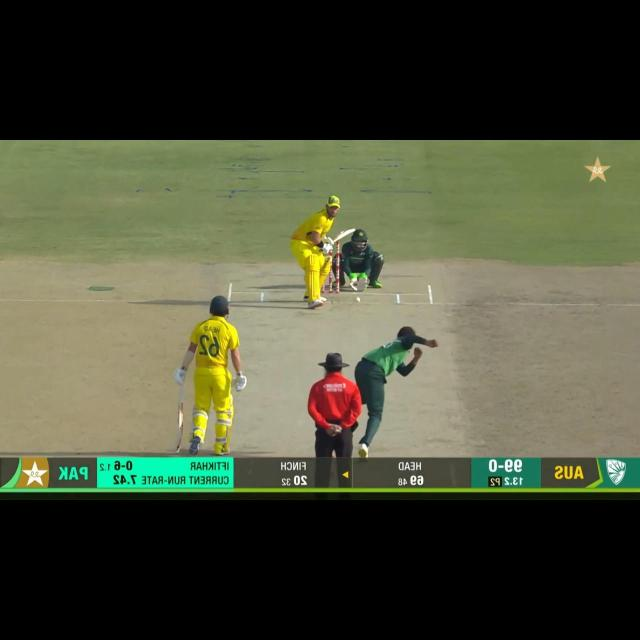bat: (173, 404, 184, 454), (327, 228, 356, 244)
toe: (172, 446, 184, 454), (347, 227, 356, 233)
